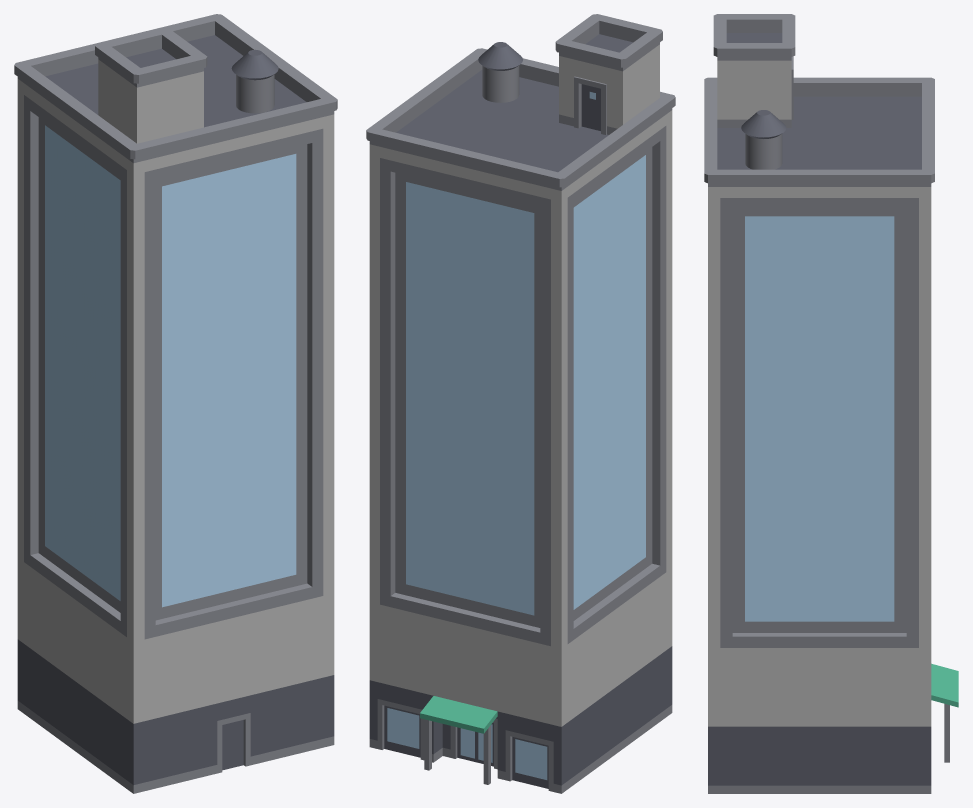
File: skyscraperC.obj
3 renders of one model, left to right at view 1: azimuth 30°, elevation 25°; view 2: azimuth 150°, elevation 25°; view 3: azimuth 270°, elevation 25°, orthographic. The views are drawn at different scales.
Parts seen in each view (by area): view 1: skyscraperC; view 2: skyscraperC; view 3: skyscraperC.
Part boxes in pixels (left/top/right/bottom): skyscraperC: left=14, top=14, right=337, bottom=793; skyscraperC: left=366, top=14, right=675, bottom=793; skyscraperC: left=704, top=14, right=958, bottom=793.
Bounding box in the file's own units: 1.24 × 4.08 × 1.37.
